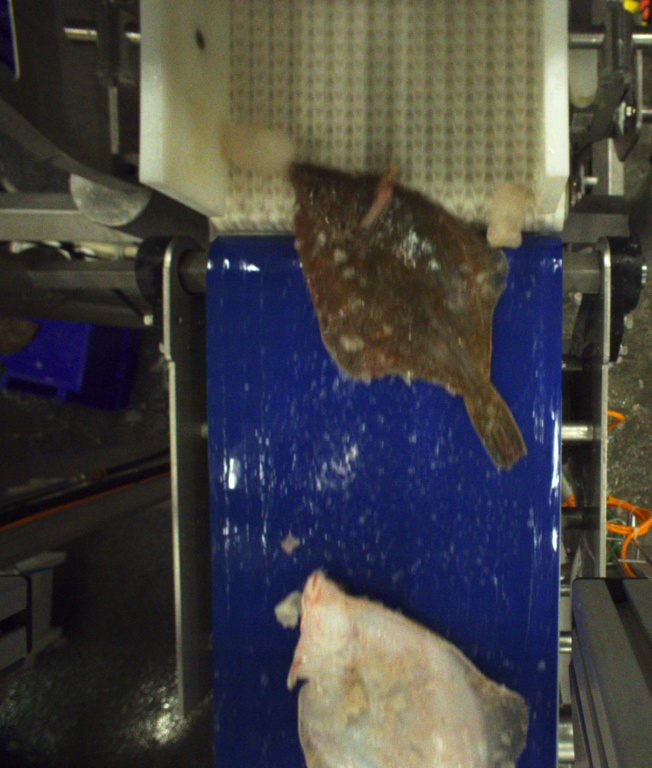PLE: (286, 160, 530, 477)
